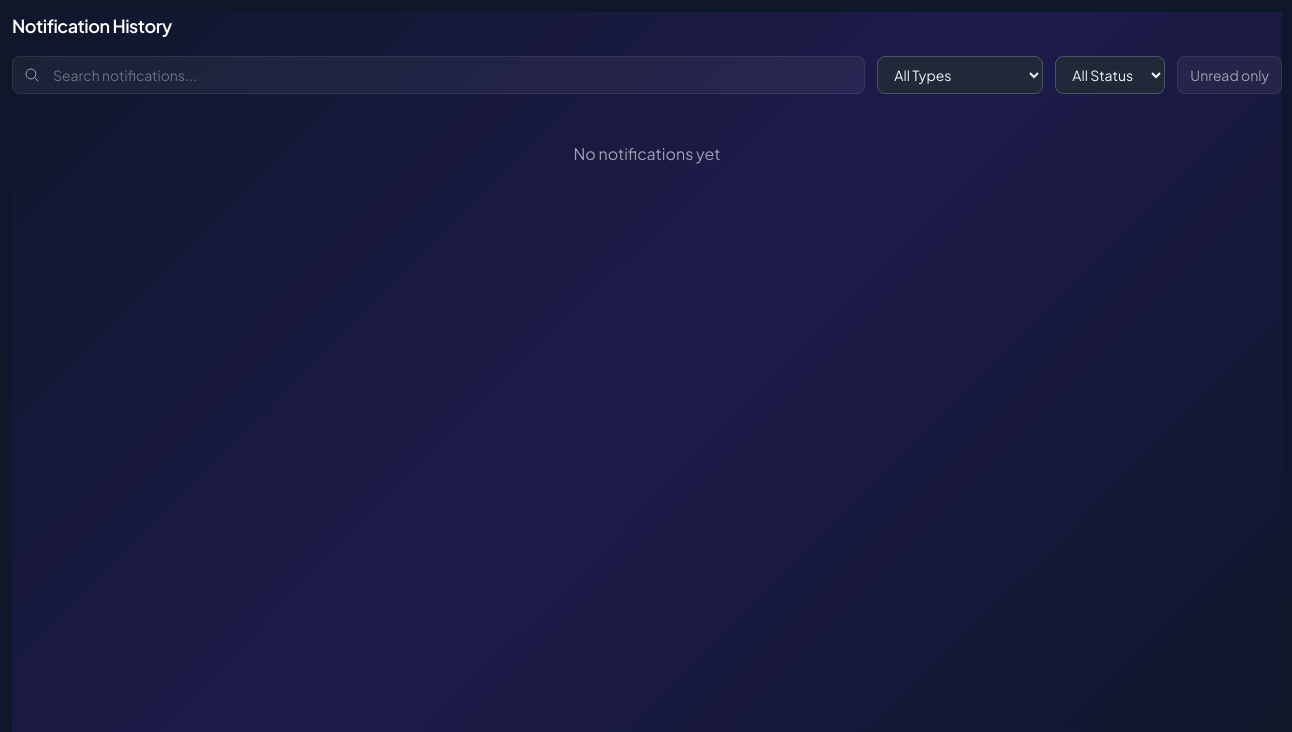
it: NotificationHistory Component › Empty State › shows filter message when filters return no results
The image size is (1292, 732).
// Apply a filter
In the field with placeholder "Search notifications...": (439, 75) [12,56,865,94], type "nonexistent"
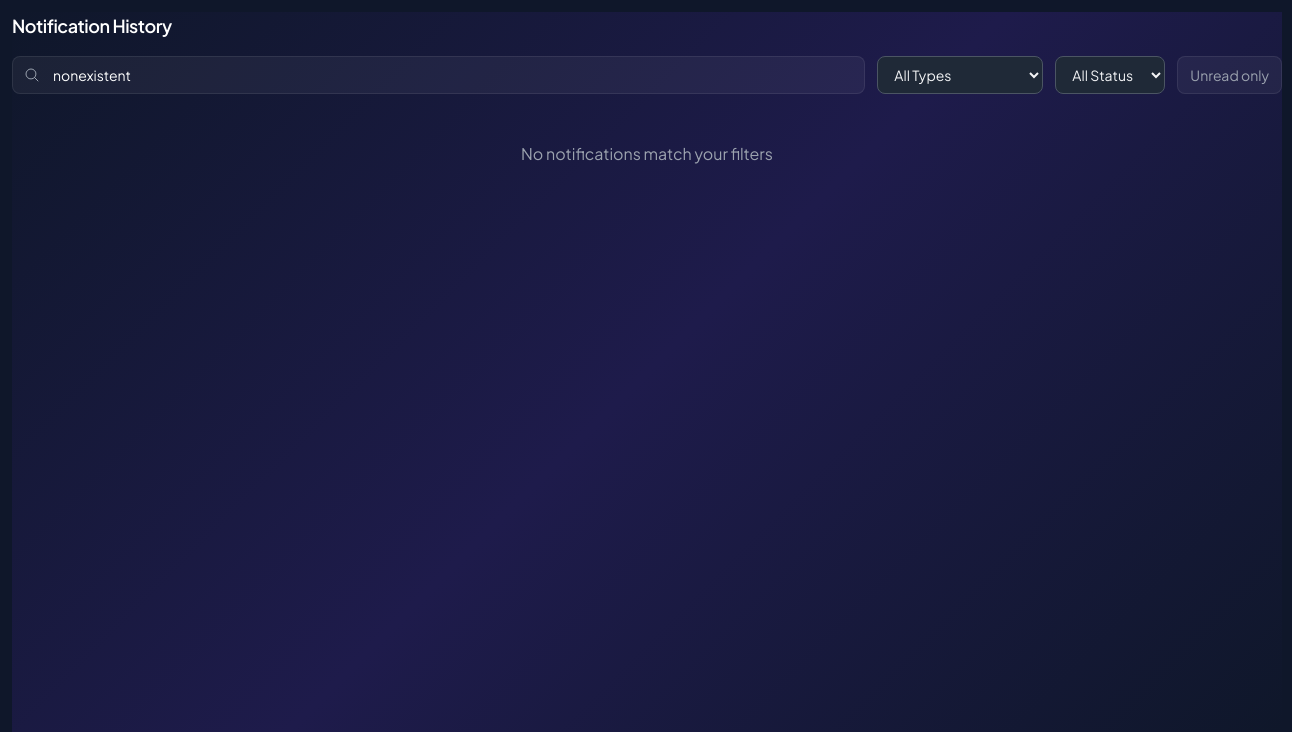
Result: the text "No notifications match your filters" is shown at [521,143,773,164]
